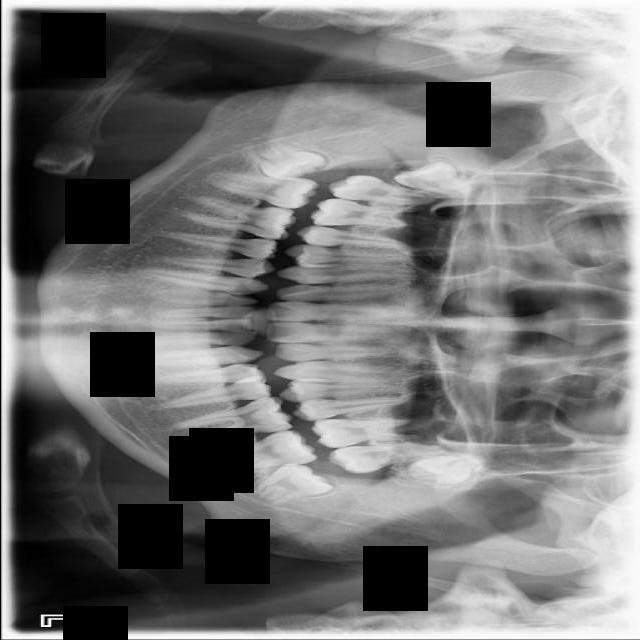3M ESPE Implant: (392, 151, 476, 201)
73: (83, 588, 106, 592)
BioHorizons Implant: (326, 438, 464, 476)
BioLife Implant: (405, 454, 495, 485)
Biomet 3i Implant: (241, 454, 334, 512)
Blue Sky Bio Implant: (206, 427, 319, 476)
Caries: (326, 171, 443, 210)
Implant: (206, 171, 318, 211)
Keystone Dental Implant: (240, 129, 327, 194)
